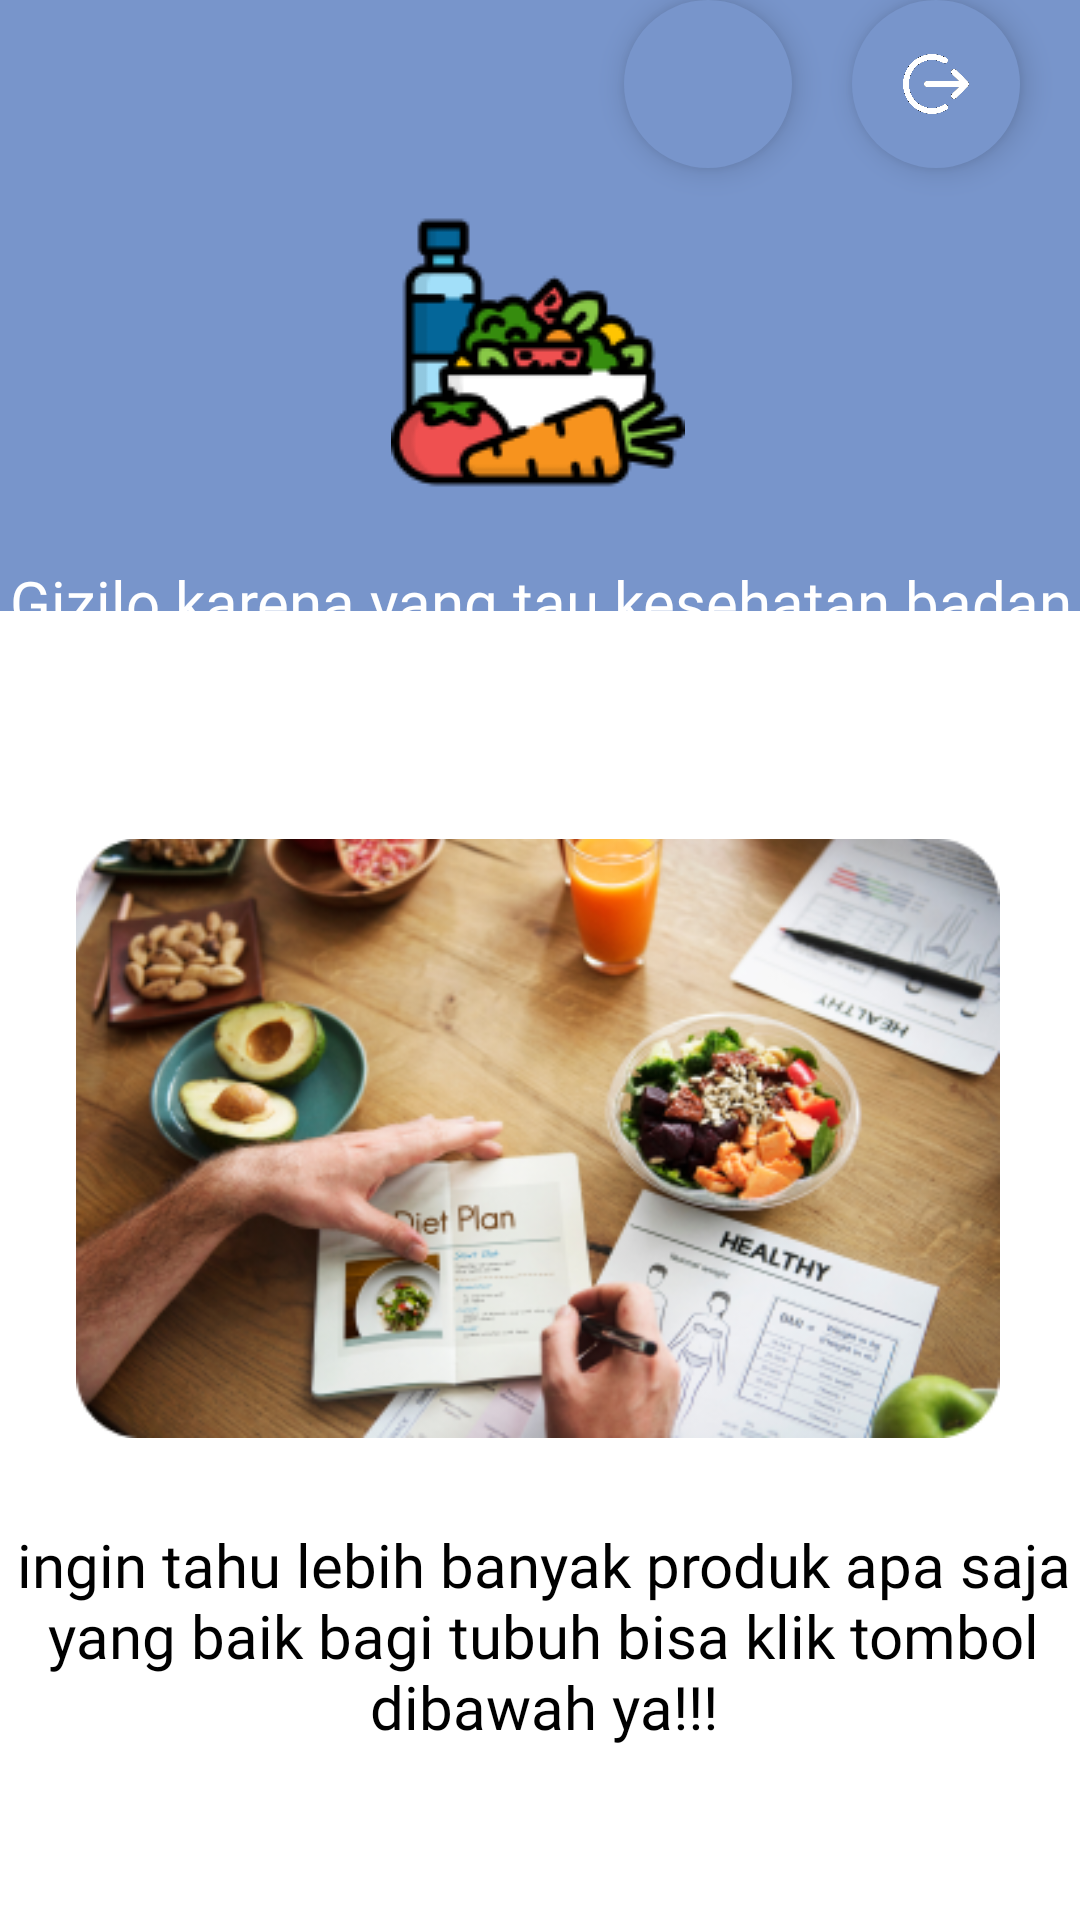

Icon click points for this 1080w x 1920h phone screenshot, format (x,y):
healthyfood: (538,352)
